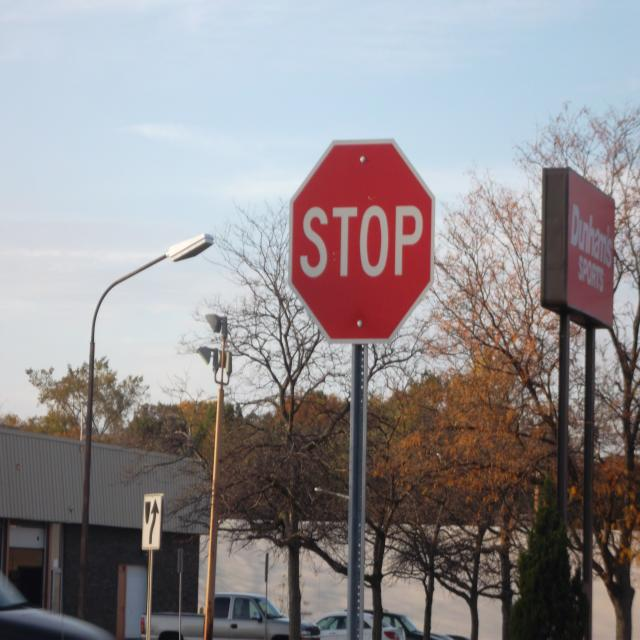regulatory: (140, 494, 162, 552)
stop: (288, 139, 436, 343)
